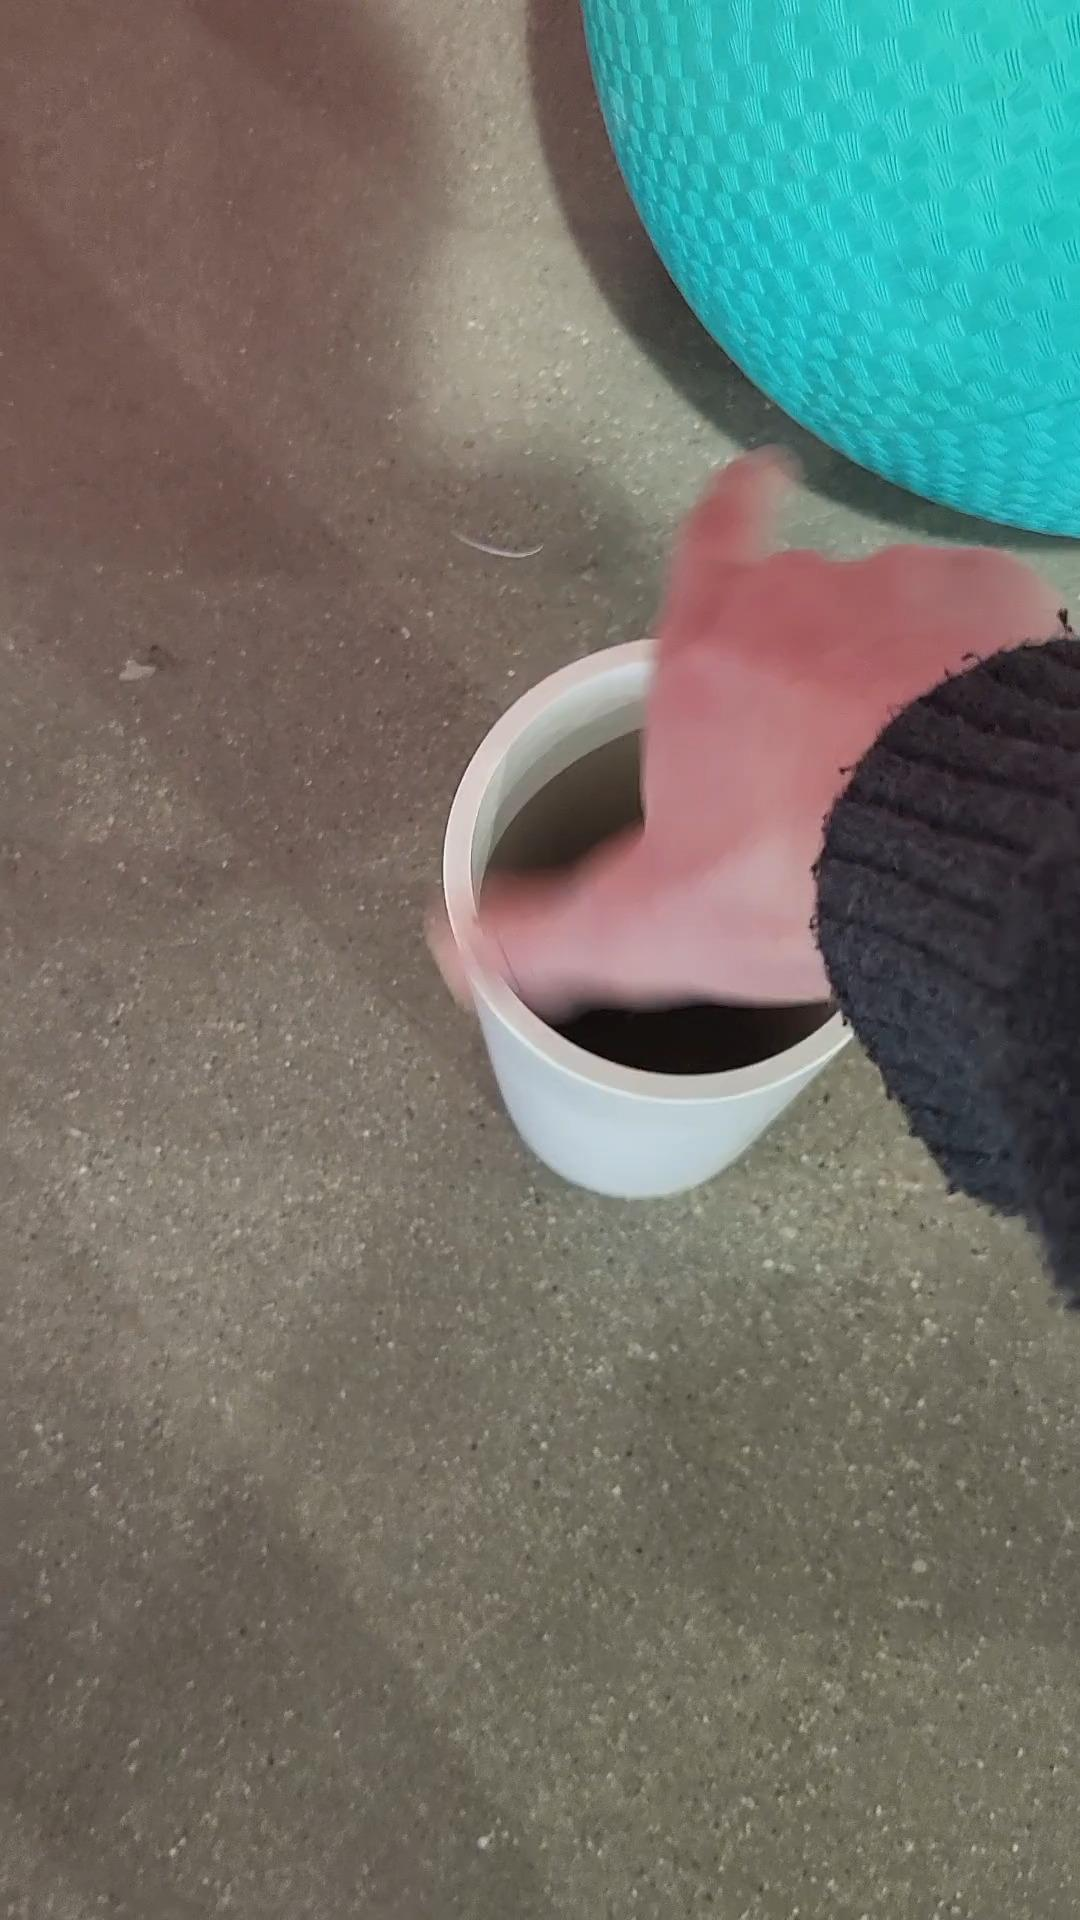algae: (566, 0, 1080, 568)
coral: (441, 636, 862, 1217)
